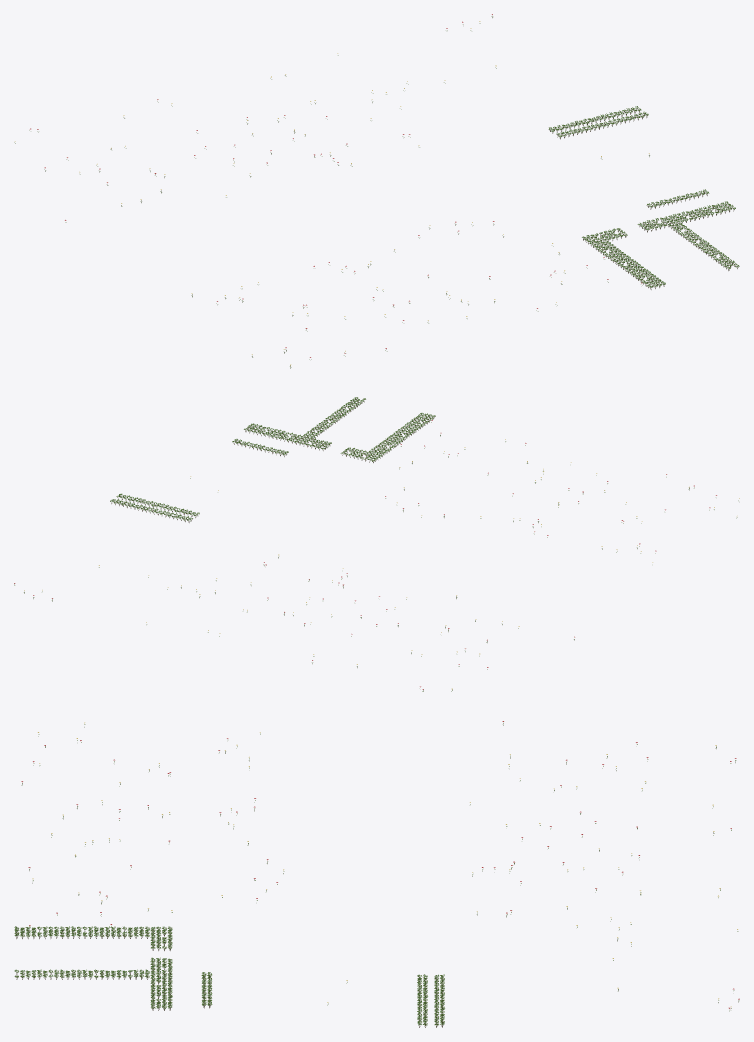
3 renders of one model, top to bottom at view 1: azimuth 30°, elevation 25°; view 2: azimuth 150°, elevation 25°; view 3: azimuth 270°, elevation 25°, orthographic. The views are drawn at different scales.
Visible parts, largest first — view 1: GROUND_FLORA_s_-7_-2; view 2: GROUND_FLORA_s_-7_-2; view 3: GROUND_FLORA_s_-7_-2.
Boxes of the visible parts, x1,y1,x2,y2 form: GROUND_FLORA_s_-7_-2: [14, 14, 739, 368]; GROUND_FLORA_s_-7_-2: [14, 397, 739, 691]; GROUND_FLORA_s_-7_-2: [14, 721, 739, 1027].
Bounding box in the file's own units: 127 × 1.91 × 128.
